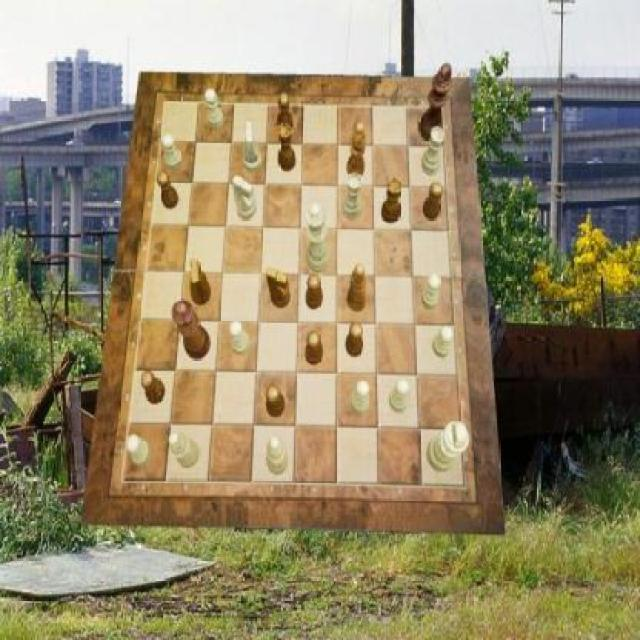bishop: (348, 263, 368, 312), (348, 122, 365, 179)
black-bishop: (418, 63, 452, 142)
black-king: (190, 260, 212, 306), (268, 268, 292, 308)
black-knight: (157, 171, 179, 209), (142, 370, 166, 404), (423, 183, 443, 222), (266, 385, 286, 417), (277, 94, 293, 134), (306, 274, 323, 310), (305, 331, 322, 365), (345, 322, 362, 356)
black-pawn: (172, 300, 212, 360)
black-queen: (382, 178, 402, 224), (279, 125, 296, 172)
black-rook: (169, 432, 200, 468), (266, 437, 289, 475)
white-bishop: (428, 422, 470, 472)
white-king: (232, 175, 256, 221), (243, 121, 263, 174)
white-knight: (126, 434, 151, 466), (204, 89, 223, 129), (163, 134, 183, 171), (389, 379, 410, 413), (432, 324, 453, 358), (231, 322, 251, 356), (351, 380, 370, 415), (422, 274, 439, 310)
white-pawn: (304, 203, 330, 272)
white-queen: (422, 126, 444, 176), (343, 174, 363, 220)
